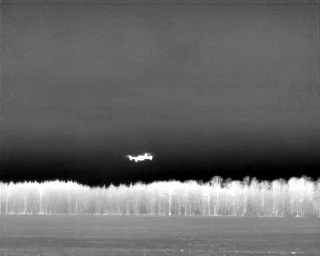DRONE: (122, 147, 159, 167)
